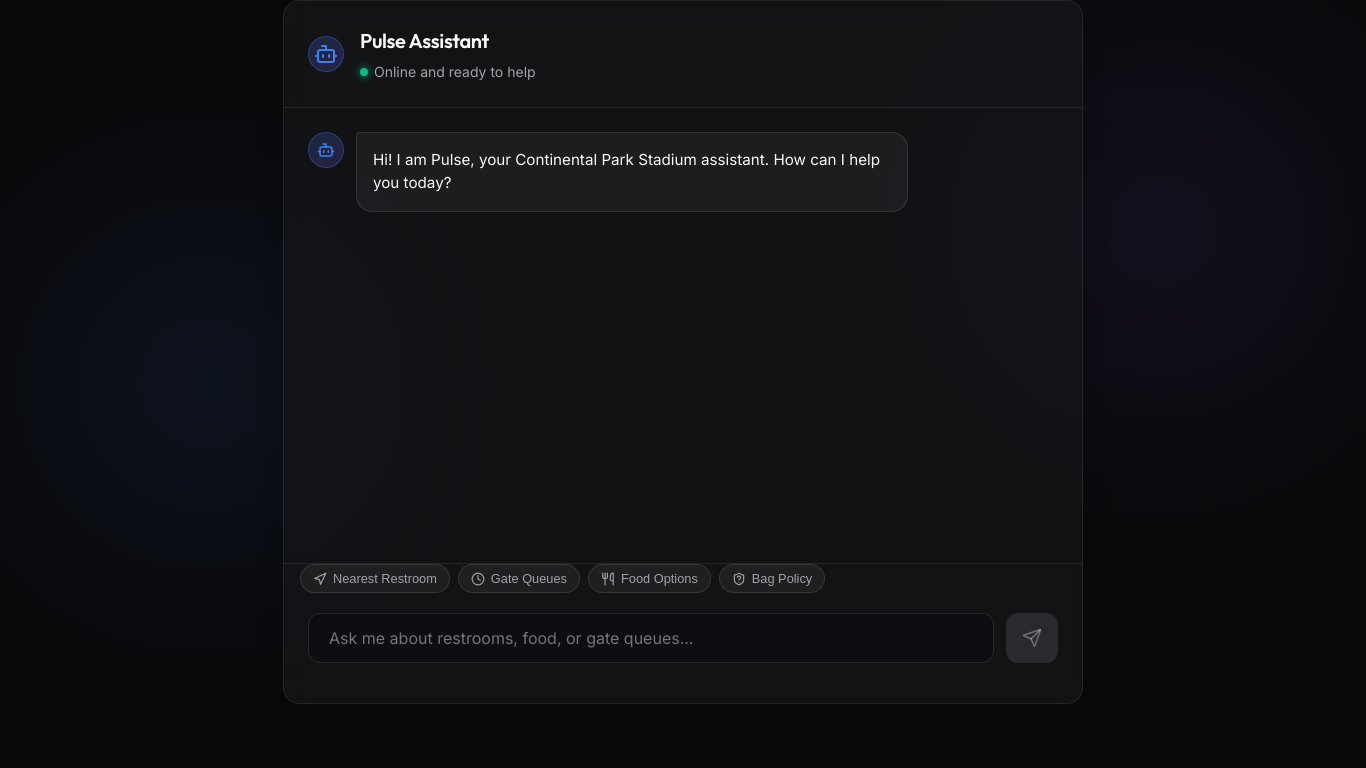
FanChat Component › handles quick action buttons
The width and height of the screenshot is (1366, 768).
Click the button with aria-label "Ask about restrooms". click: (375, 578)
box: top-left (300, 564), bottom-right (450, 593)
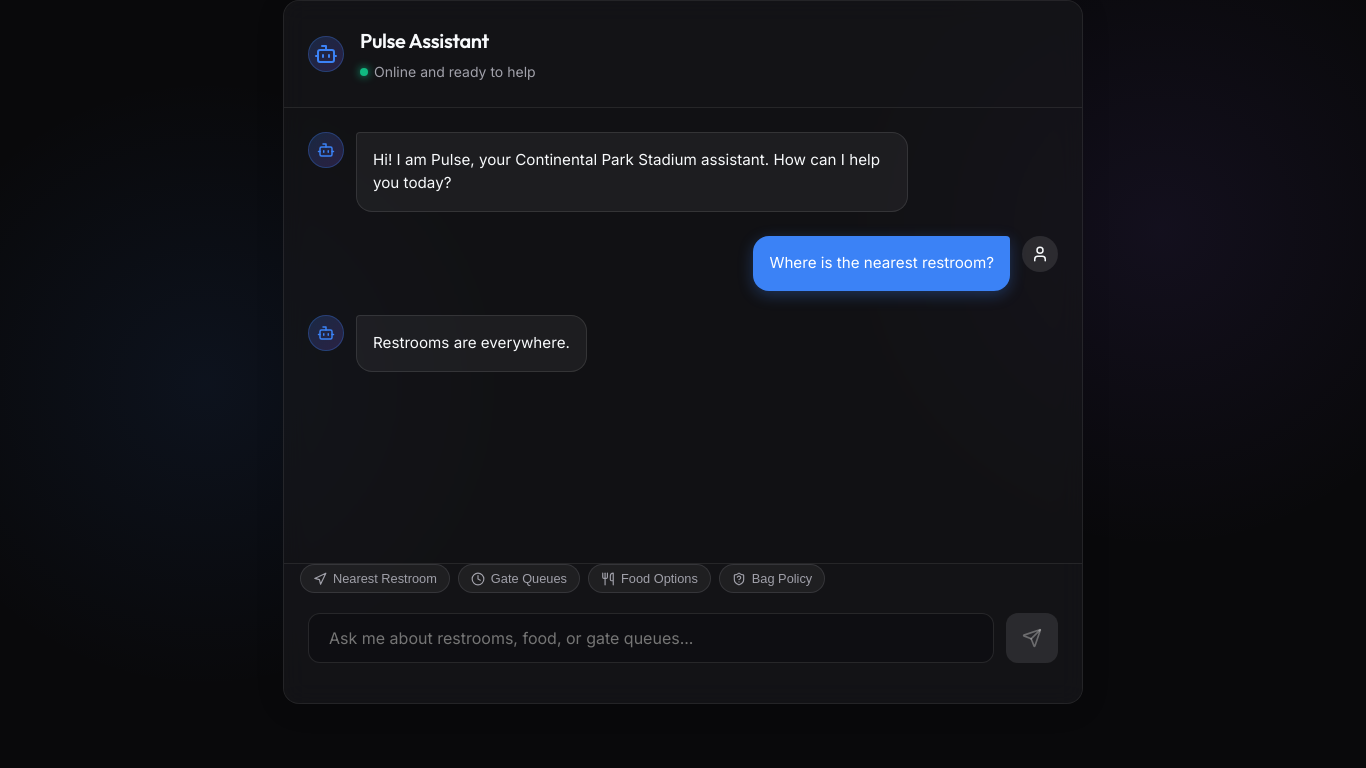
Result: the text "Where is the nearest restroom?" is shown at top-left (753, 236), bottom-right (1010, 291)
Result: the text "Restrooms are everywhere." is shown at top-left (373, 332), bottom-right (570, 355)
